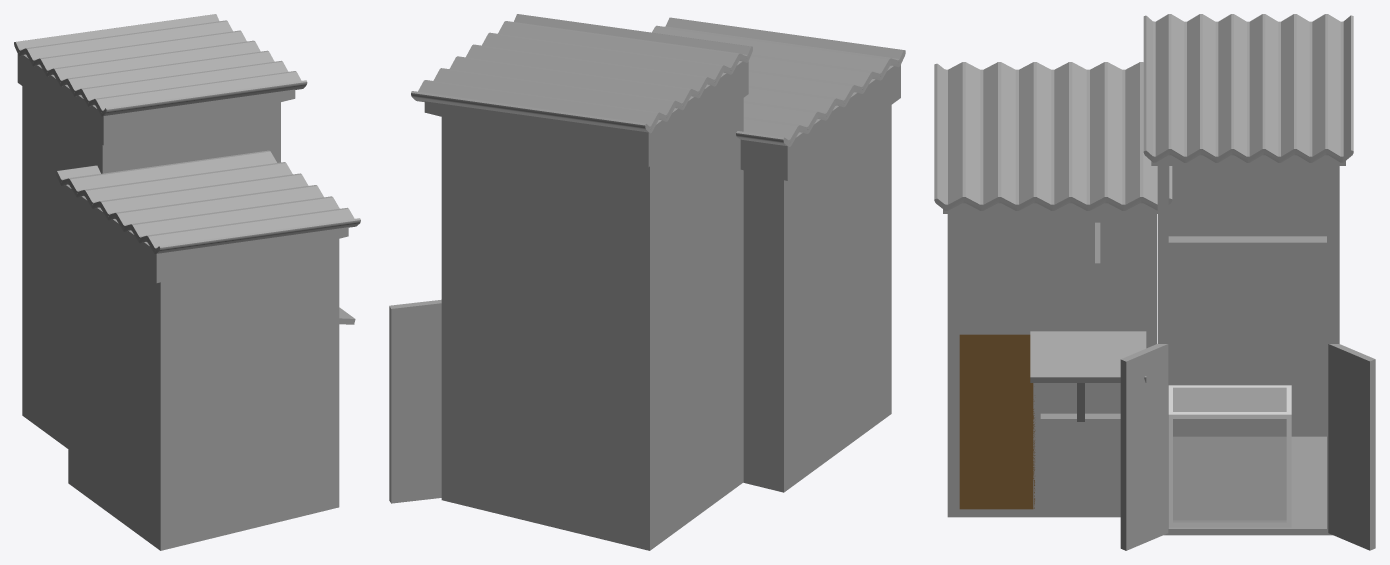
Rendered from Barl3.fbx.
The picture shows the model from 3 angles, left to right: view 1: azimuth 30°, elevation 25°; view 2: azimuth 150°, elevation 25°; view 3: azimuth 270°, elevation 25°; orthographic projection. The views are drawn at different scales.
Parts seen in each view (by area): view 1: pCube7, pCube1, pCube8, pCube2, pCube9, pCube3; view 2: pCube1, pCube7, pCube2, pCube8, pCube5, pCube3, pCube9; view 3: pCube1, pCube7, pCube8, pCube2, pCube6, pCube4, pCube5, pCube10, pCube9, pCube3.
Boxes of the visible parts, x1=… form: pCube7: x1=68, y1=219, x2=339, y2=550; pCube1: x1=22, y1=86, x2=280, y2=448; pCube8: x1=55, y1=150, x2=360, y2=254; pCube2: x1=14, y1=14, x2=307, y2=116; pCube9: x1=59, y1=181, x2=348, y2=282; pCube3: x1=17, y1=52, x2=295, y2=145; pCube1: x1=441, y1=98, x2=743, y2=550; pCube7: x1=743, y1=105, x2=891, y2=492; pCube2: x1=411, y1=14, x2=752, y2=133; pCube8: x1=652, y1=17, x2=905, y2=146; pCube5: x1=389, y1=299, x2=441, y2=503; pCube3: x1=424, y1=58, x2=748, y2=167; pCube9: x1=740, y1=62, x2=900, y2=180; pCube1: x1=1157, y1=166, x2=1339, y2=535; pCube7: x1=947, y1=214, x2=1156, y2=517; pCube8: x1=934, y1=62, x2=1172, y2=210; pCube2: x1=1143, y1=14, x2=1353, y2=162; pCube6: x1=1168, y1=385, x2=1291, y2=527; pCube4: x1=1120, y1=344, x2=1168, y2=550; pCube5: x1=1328, y1=344, x2=1375, y2=550; pCube10: x1=1030, y1=331, x2=1146, y2=382; pCube9: x1=943, y1=203, x2=1157, y2=213; pCube3: x1=1151, y1=155, x2=1345, y2=165.
Bounding box in the file's own units: 25.67 × 36.31 × 34.37.
